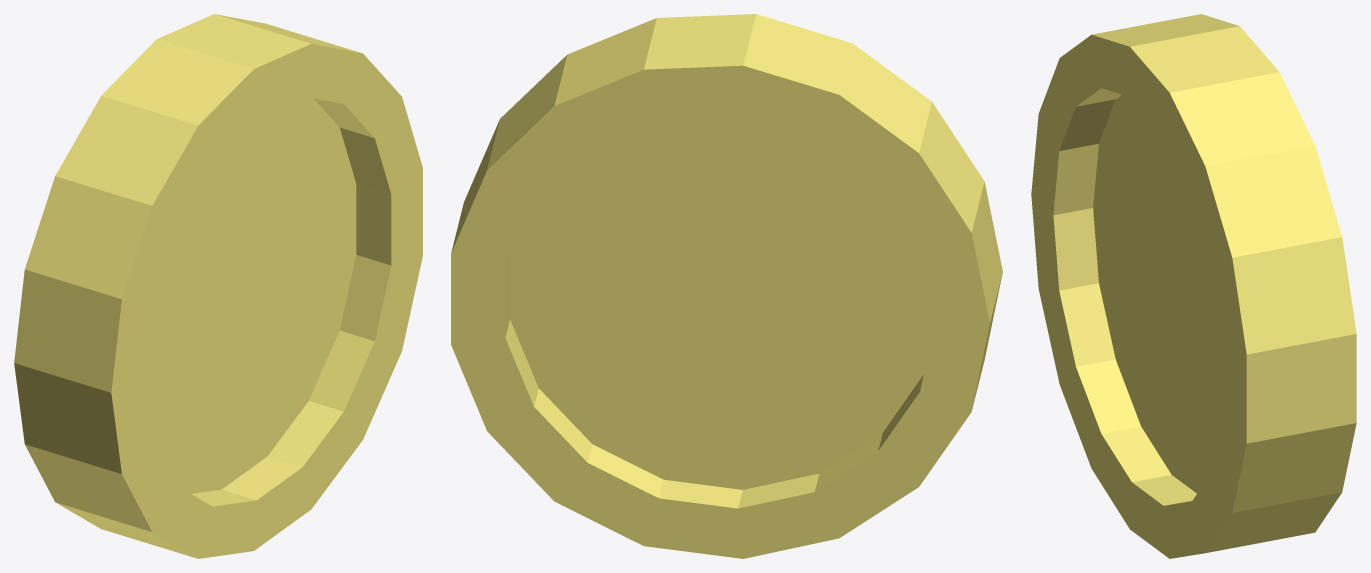
File: flippingcoin.fbx
3 renders of one model, left to right at view 1: azimuth 30°, elevation 25°; view 2: azimuth 150°, elevation 25°; view 3: azimuth 270°, elevation 25°, orthographic. The views are drawn at different scales.
Parts seen in each view (by area): view 1: Cylinder; view 2: Cylinder; view 3: Cylinder.
Boxes of the visible parts, <box> form: Cylinder: <box>14,14,422,558</box>; Cylinder: <box>451,14,1002,558</box>; Cylinder: <box>1031,14,1356,558</box>.
Bounding box in the file's own units: 39.9 × 39.83 × 24.34.
